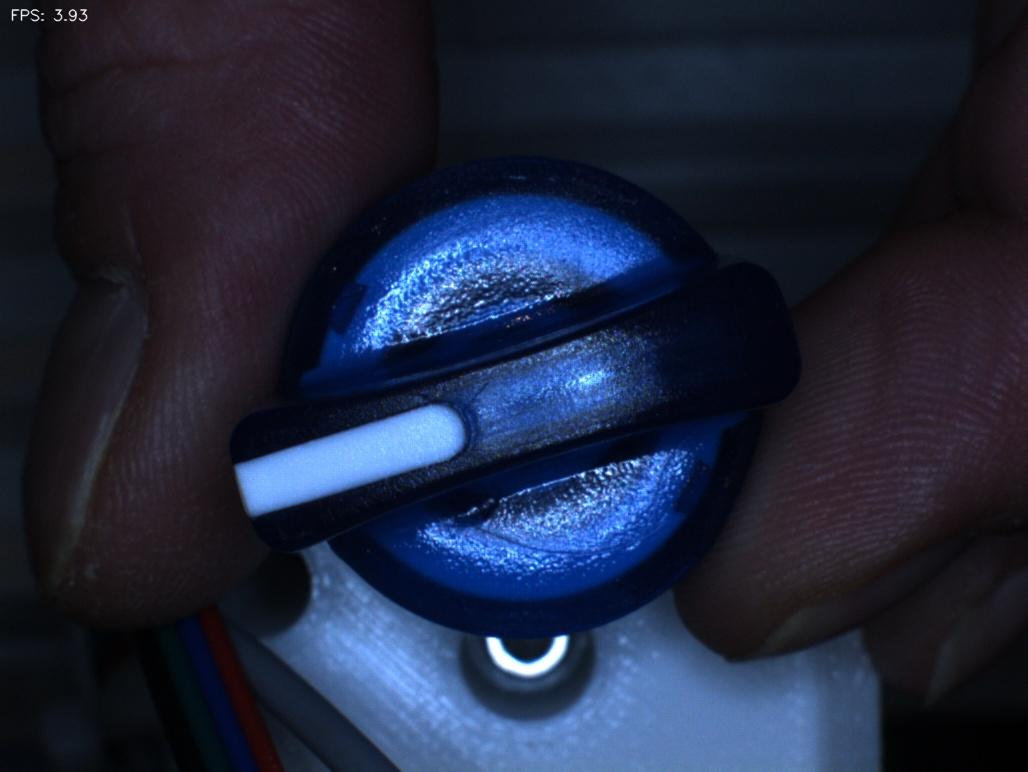Choc: (419, 481, 514, 557)
